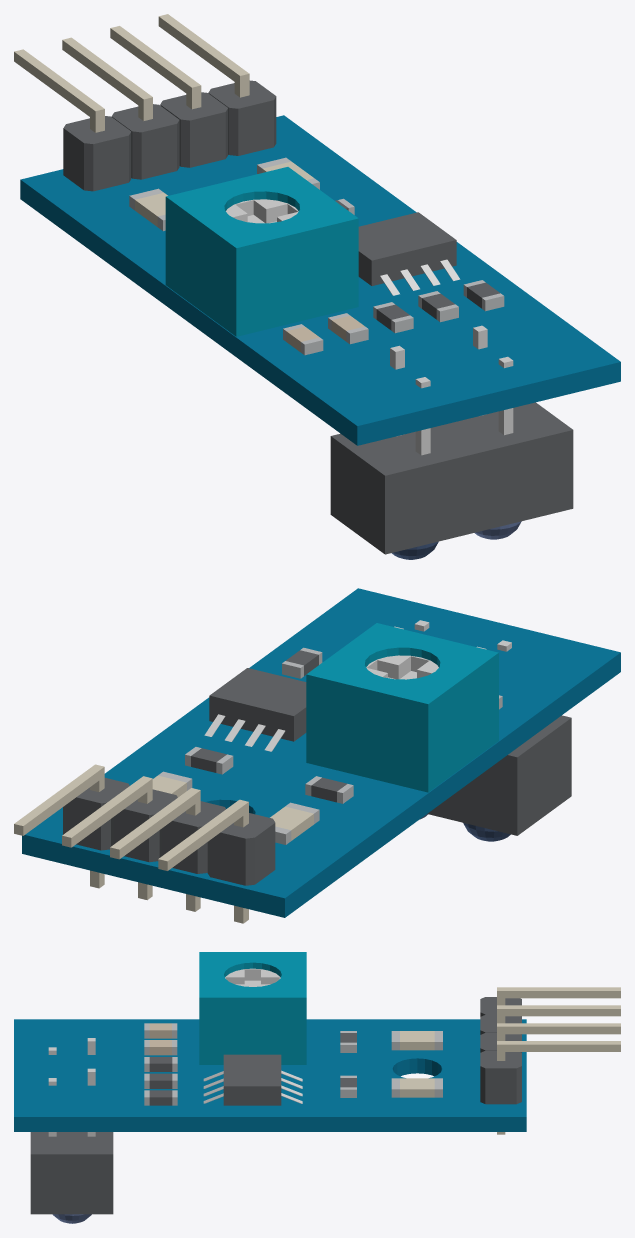
File: suiveur_de_ligne.glb
3 renders of one model, top to bottom at view 1: azimuth 30°, elevation 25°; view 2: azimuth 150°, elevation 25°; view 3: azimuth 270°, elevation 25°, orthographic. The views are drawn at different scales.
Visible parts, largest first — view 1: Mesh_Mesh_head_geo.001_lambert2SG.001; view 2: Mesh_Mesh_head_geo.001_lambert2SG.001; view 3: Mesh_Mesh_head_geo.001_lambert2SG.001.
Boxes of the visible parts, x1=… form: Mesh_Mesh_head_geo.001_lambert2SG.001: x1=14, y1=14, x2=620, y2=559; Mesh_Mesh_head_geo.001_lambert2SG.001: x1=14, y1=588, x2=620, y2=923; Mesh_Mesh_head_geo.001_lambert2SG.001: x1=14, y1=952, x2=620, y2=1223.
Size of the model in its own units: 0.014 by 0.0137 by 0.0367.
